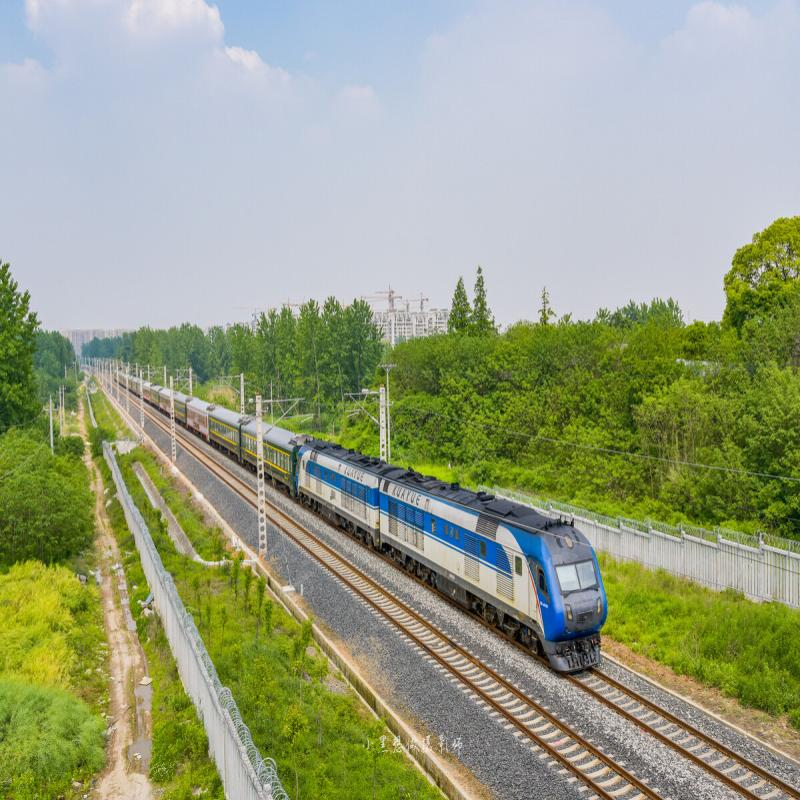train: (293, 419, 613, 678)
